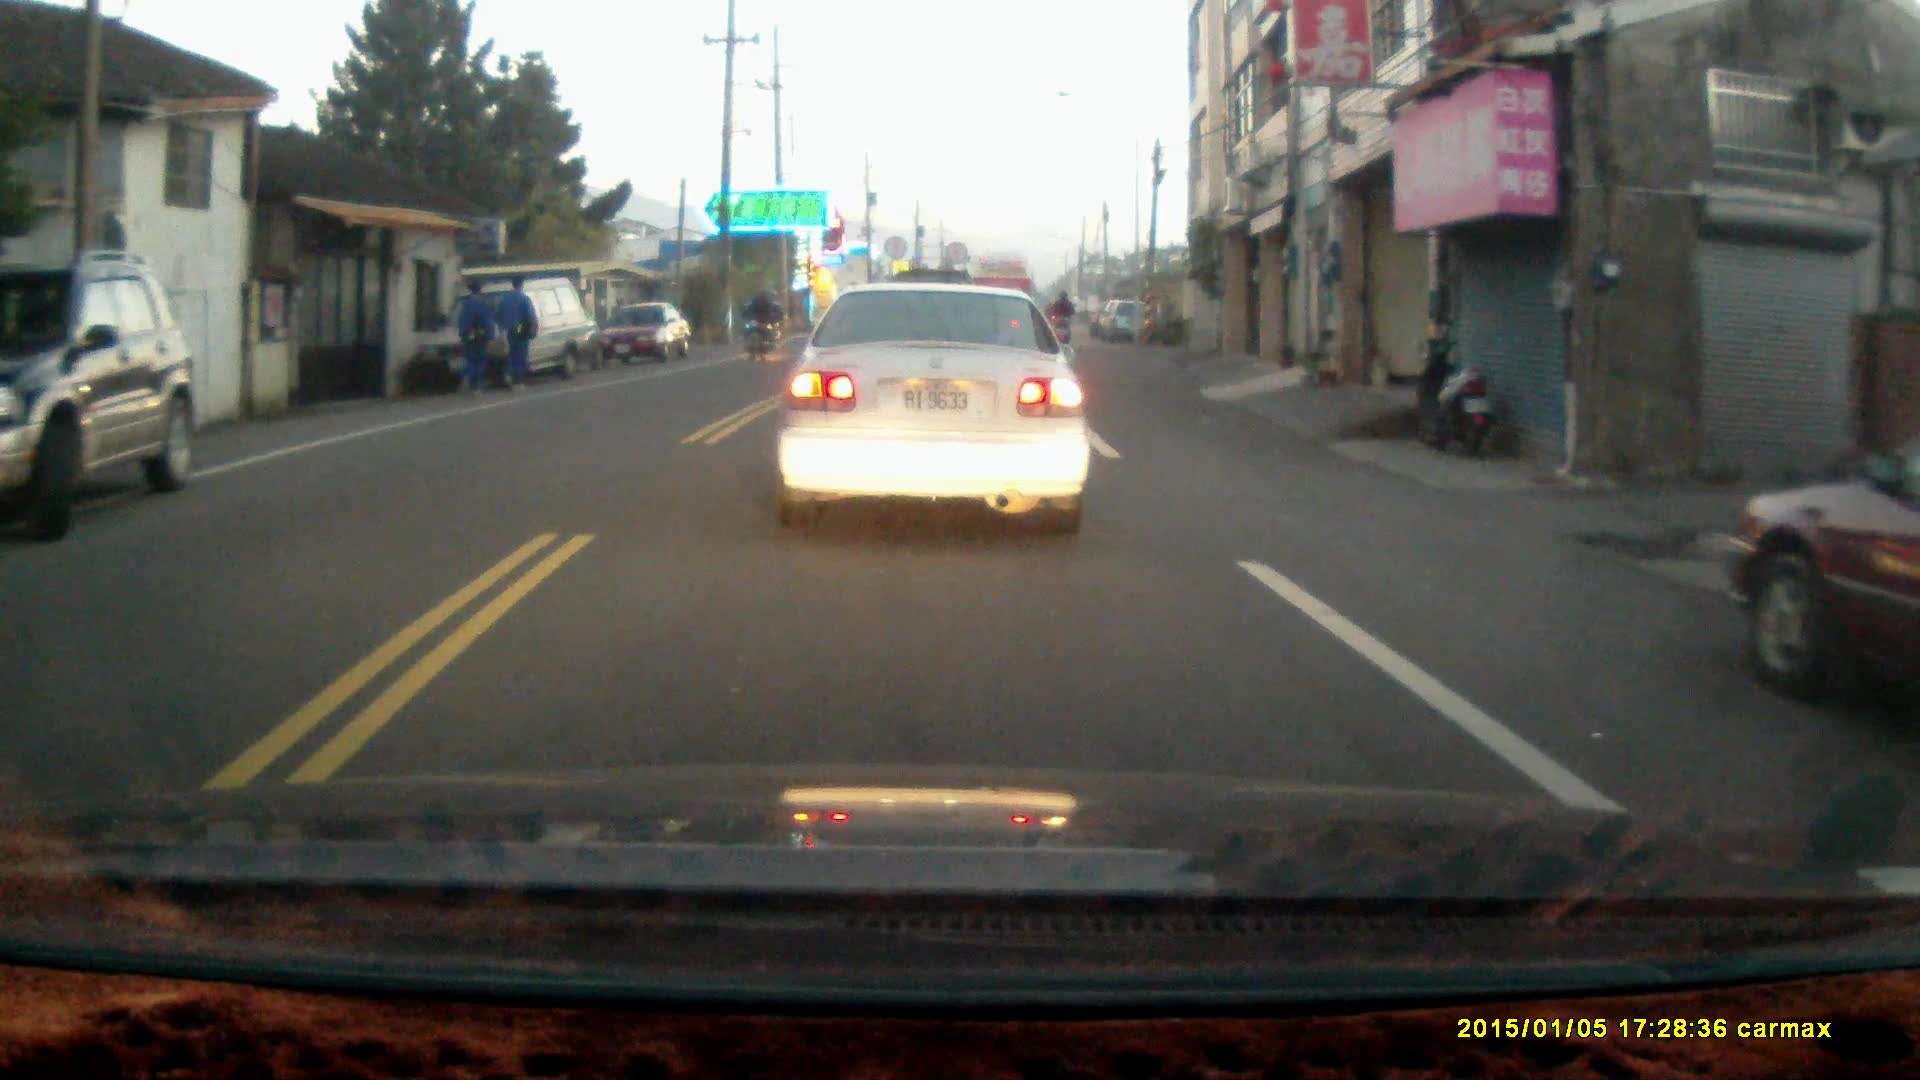pedestrian: (497, 273, 535, 394), (453, 282, 493, 397)
rider: (738, 291, 776, 360)
vehicle: (775, 278, 1098, 532), (1, 260, 198, 541), (1718, 450, 1920, 701), (443, 273, 604, 383), (593, 303, 696, 365)
